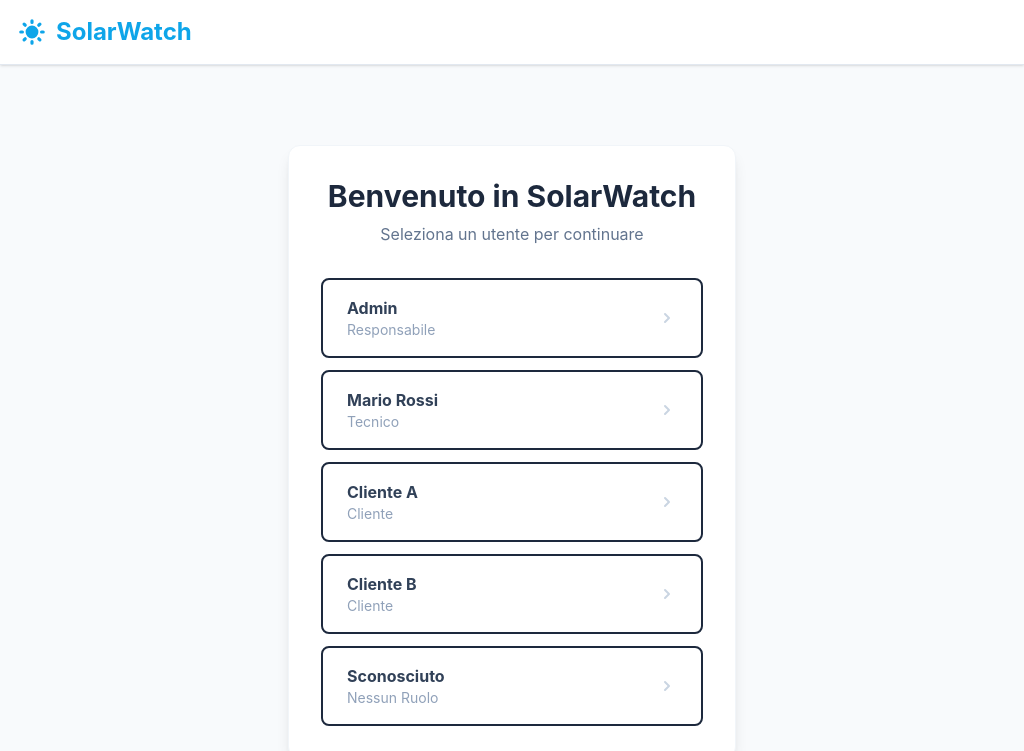
Scenario: Gestione Impianti › [NEGATIVO] Salvare senza selezionare il cliente mostra un errore
Click the button "Mario Rossi tecnico".
click(393, 400)  # box [321,370,703,450]
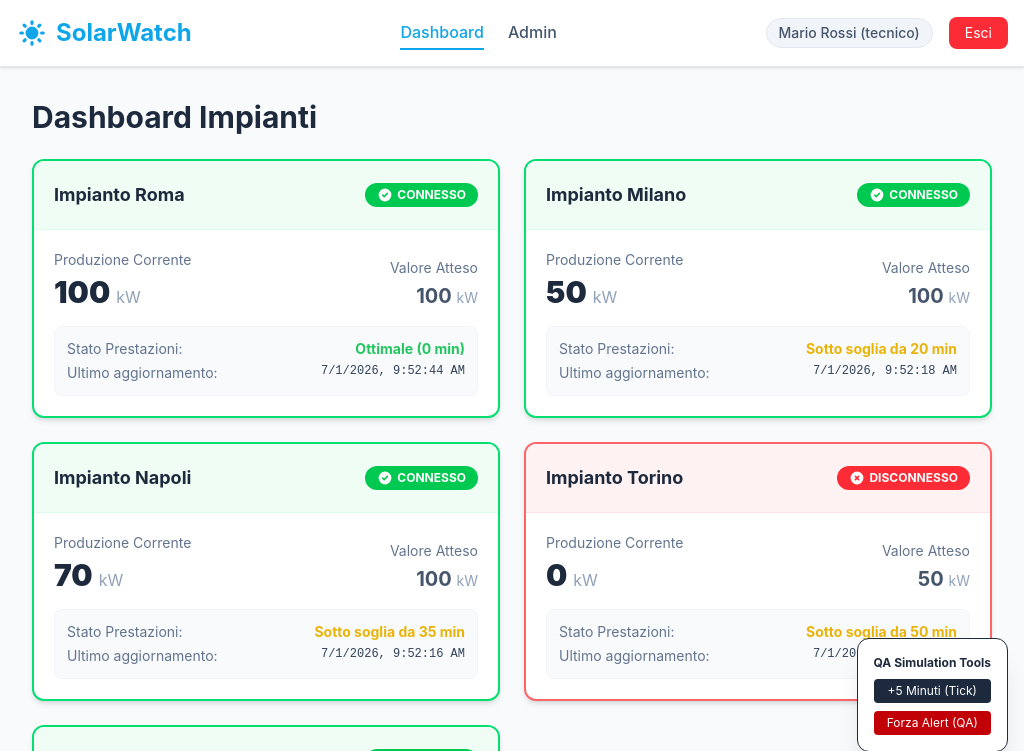
Click the link "Admin".
click(533, 32)  # box [508,22,557,42]
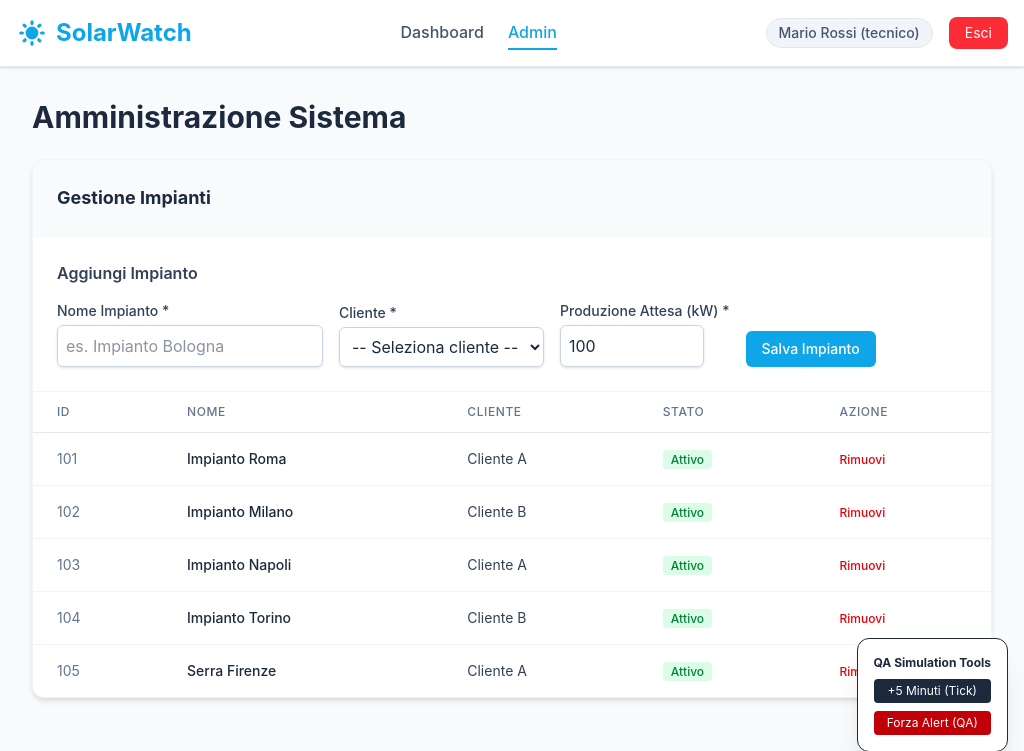
Type "Impianto Test" into the field with test id "add-plant-name".
click(190, 346); type("Impianto Test")  # box [57,325,323,367]
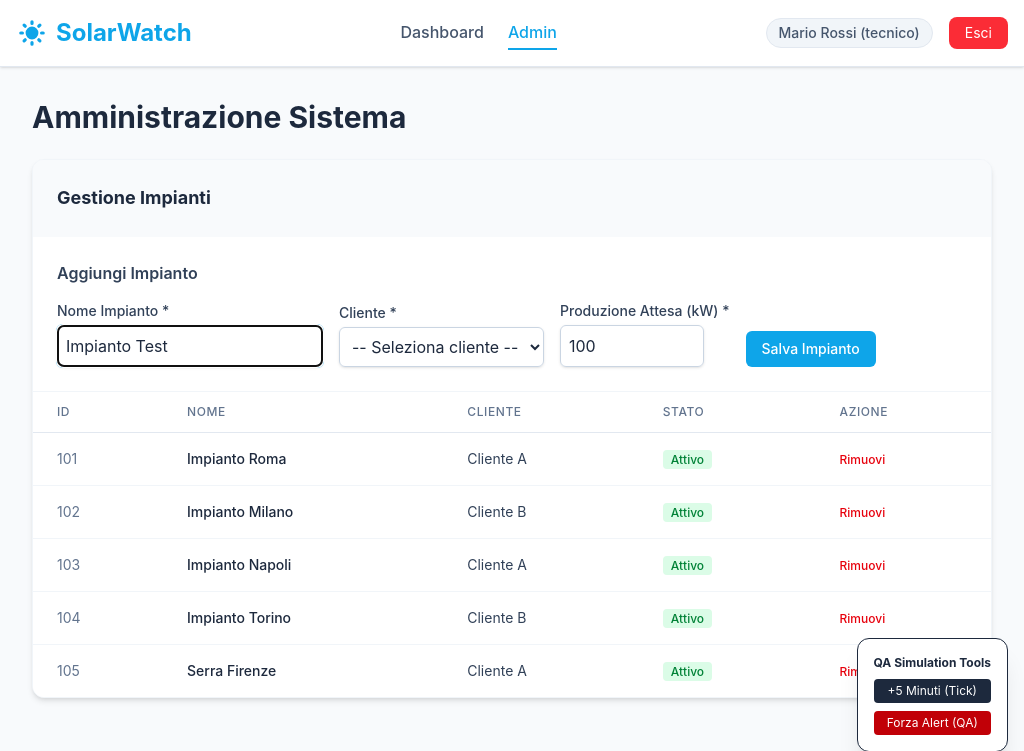
Replace the text in the number field with test id "add-plant-expected" with "80" at (632, 346), box [560,325,704,367]
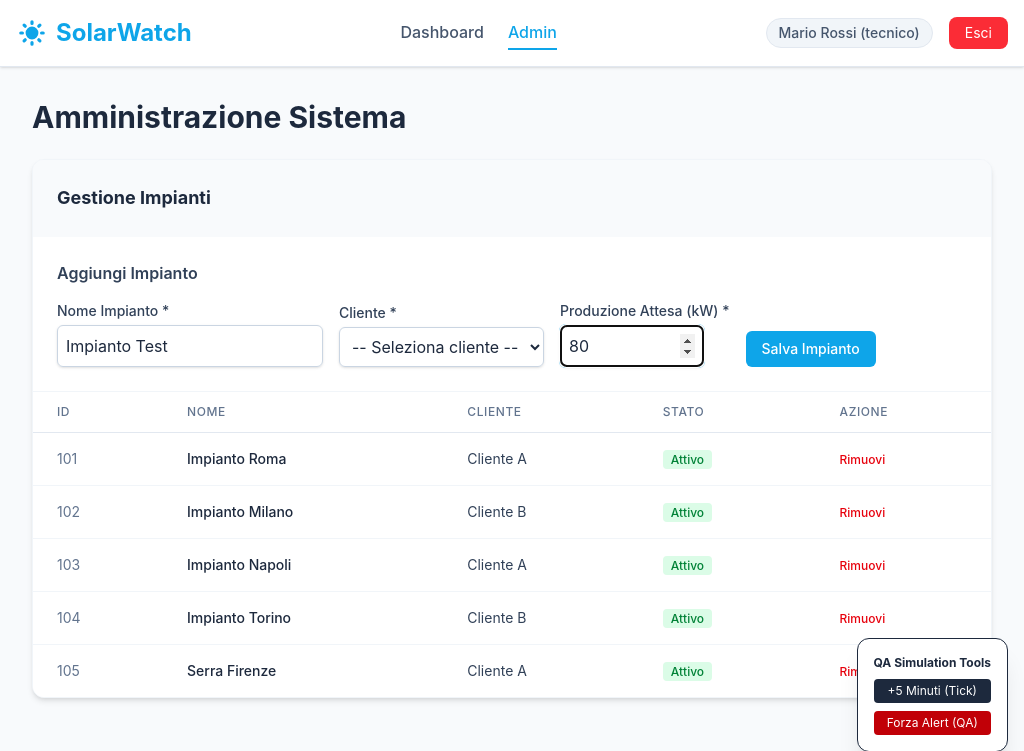
Note: cliente NON selezionato
Click the button with test id "add-plant-submit".
click(811, 349)  # box [746,331,876,367]
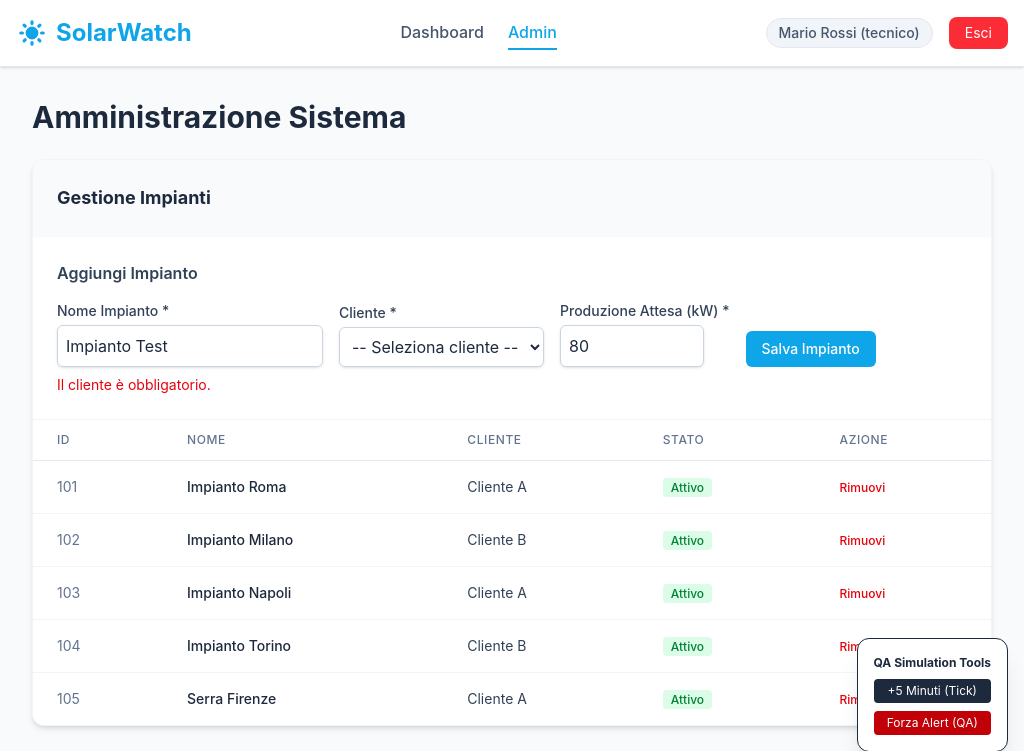
Expected: the text with test id "add-plant-error" shows "obbligatorio", [57,376,211,393]
